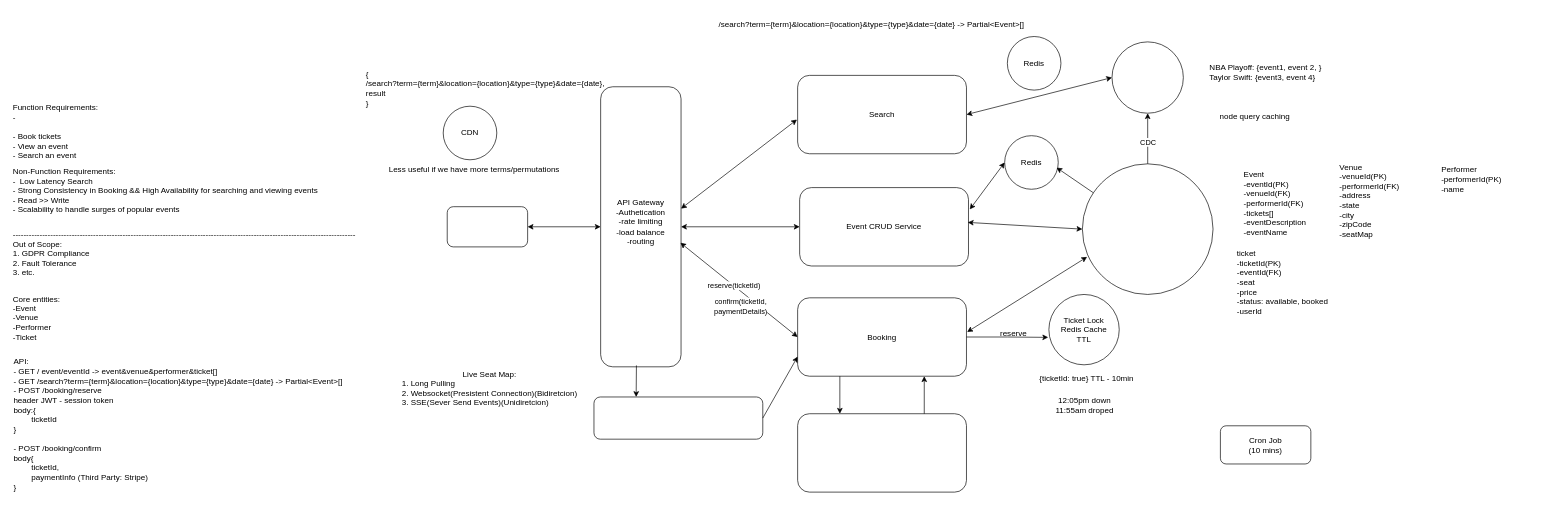
Image size: 1556x506. Some labels were removed from this diagram. Each missing label, with the centre of its shape:
"Client" goes at pixel 487 226.
"Database (Postgres) (Consistence -> ACID)" goes at pixel 1147 228.
"ElasticSearch (AWS opensearch)" goes at pixel 1147 77.
"Third Party Payment Process(Stripe)" goes at pixel 881 452.
"Virtual Waiting Queue(Redis)" goes at pixel 678 417.
